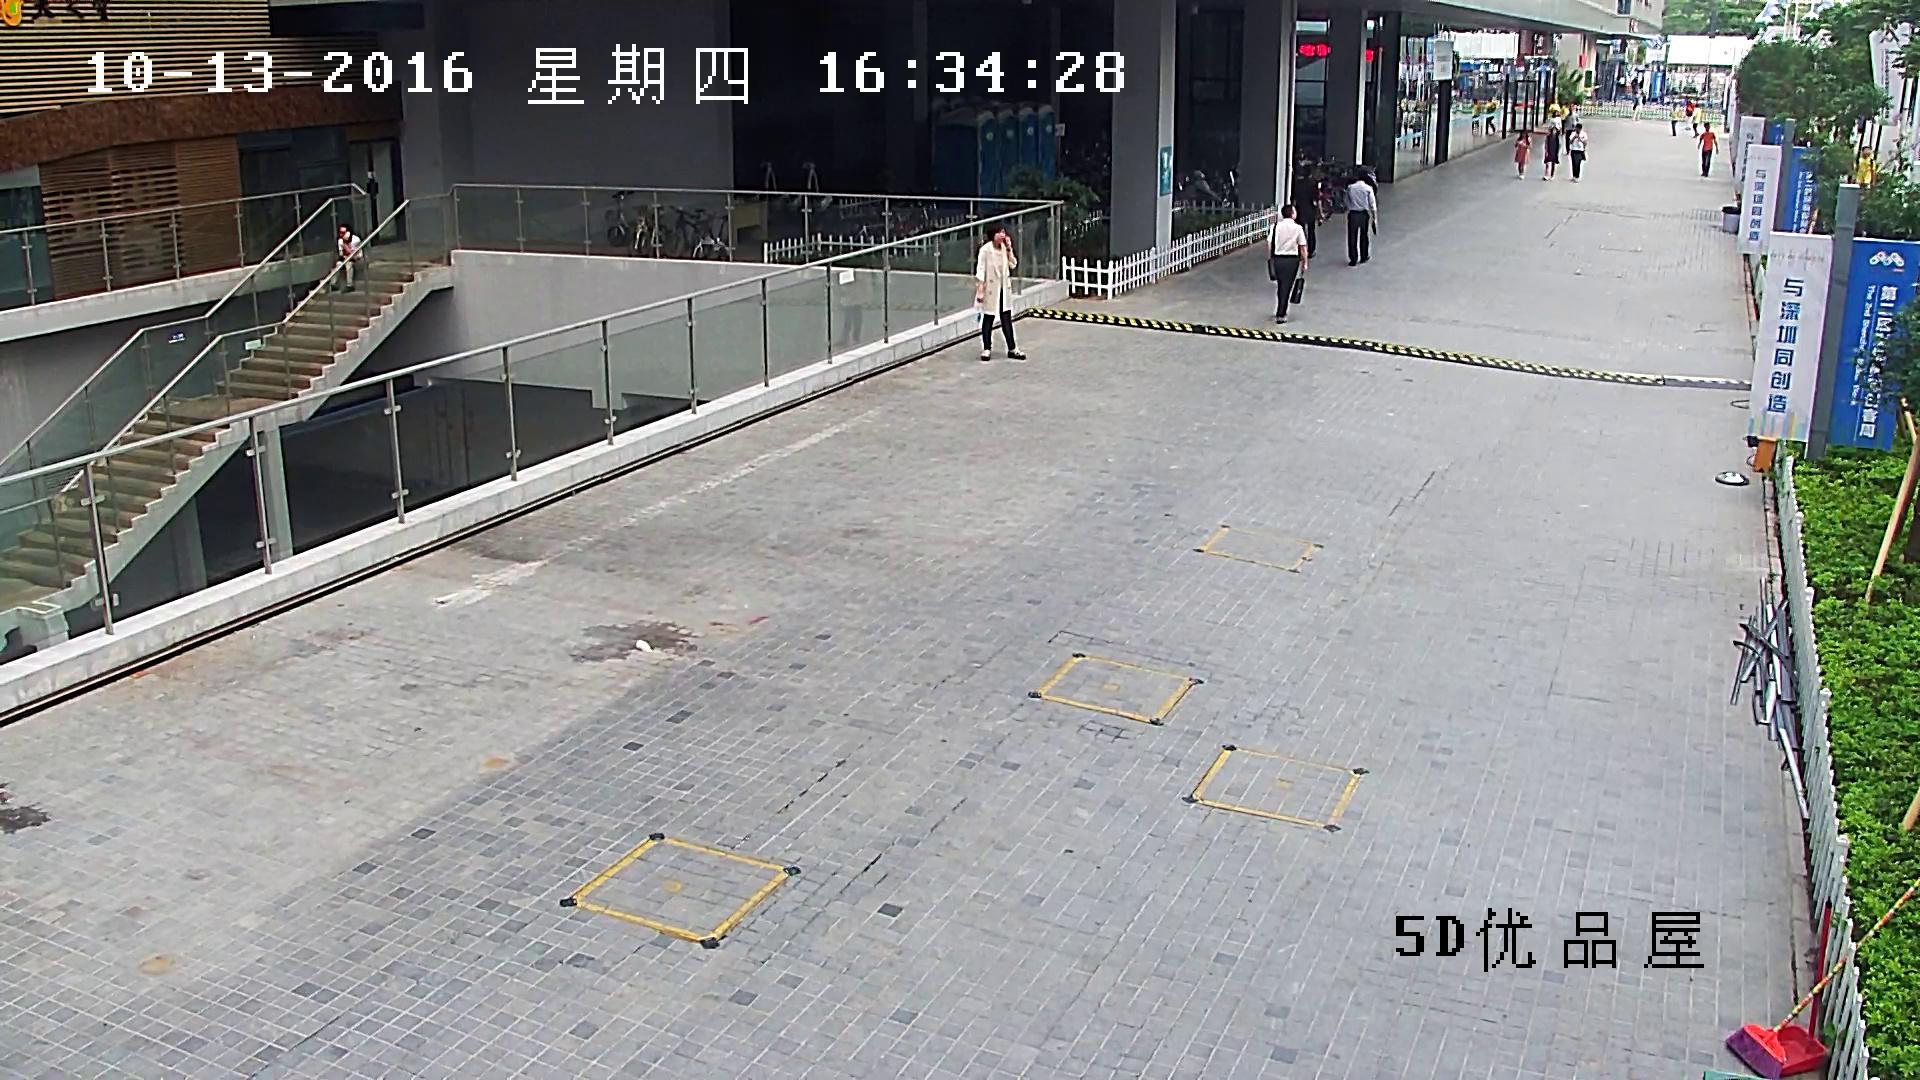person: (975, 221, 1026, 361), (1264, 204, 1307, 323), (1343, 164, 1377, 265), (1290, 164, 1317, 259), (329, 222, 363, 291), (1698, 121, 1718, 177), (1569, 123, 1587, 183), (1855, 146, 1877, 190), (1542, 127, 1559, 180), (1514, 131, 1531, 180), (1564, 105, 1578, 152), (1408, 104, 1423, 146), (1547, 111, 1561, 152), (1484, 95, 1496, 135), (1472, 98, 1482, 135), (1690, 103, 1701, 137), (1631, 88, 1641, 120), (1670, 102, 1678, 135), (1685, 101, 1694, 129)
